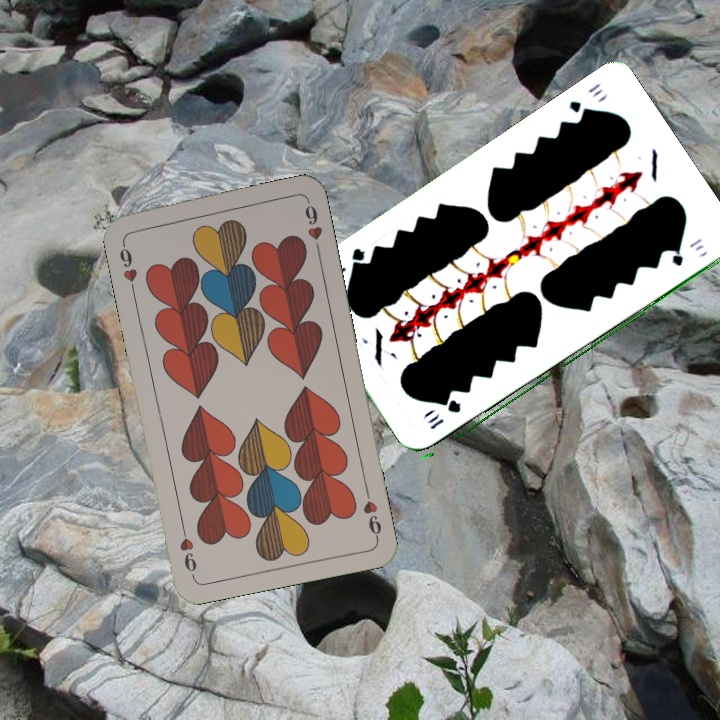G10: (564, 79, 605, 122), (424, 397, 464, 433)
H9: (359, 483, 384, 542), (115, 236, 140, 295)
